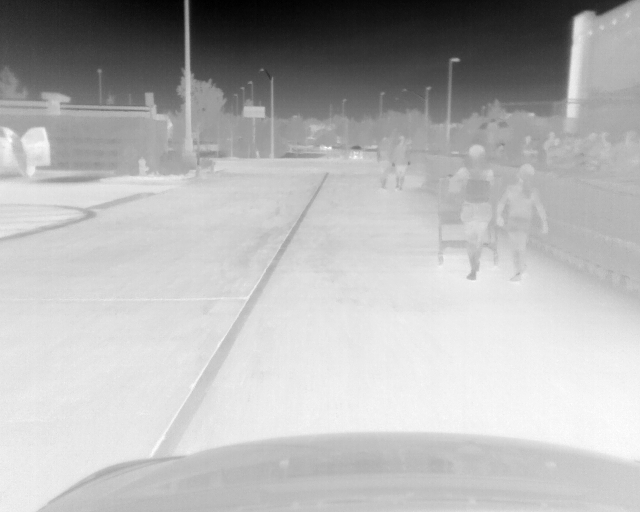car: (1, 125, 51, 176), (349, 146, 363, 160), (318, 143, 333, 150)
people: (494, 162, 550, 282), (449, 143, 494, 279), (393, 135, 414, 190), (612, 129, 640, 170), (376, 131, 394, 189), (9, 135, 28, 176), (592, 129, 610, 167), (541, 131, 561, 164), (518, 135, 538, 164)
